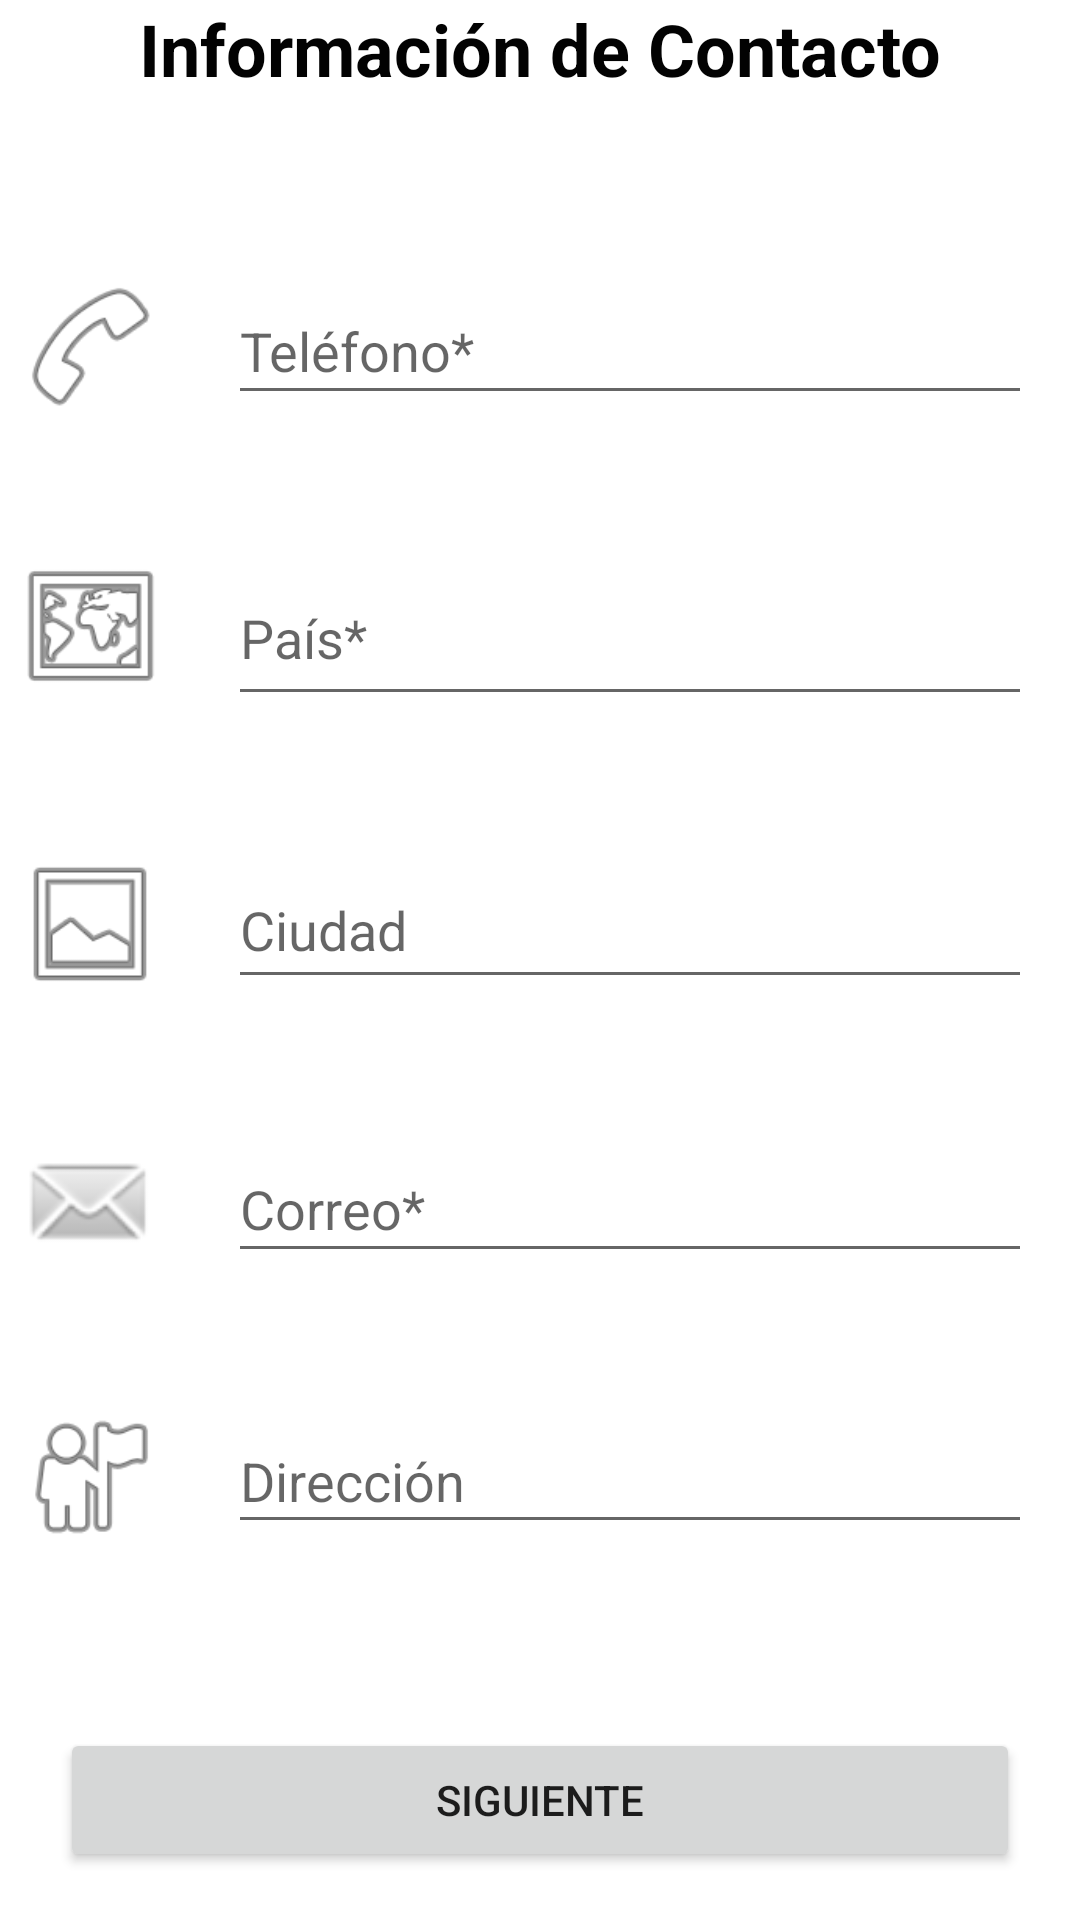

Named icons in this screenshot (1080x1920) and their bounding boxes, (x1, y1, x2, y2):
myplaces: (35, 1421, 148, 1533)
Planeta: (28, 571, 154, 681)
